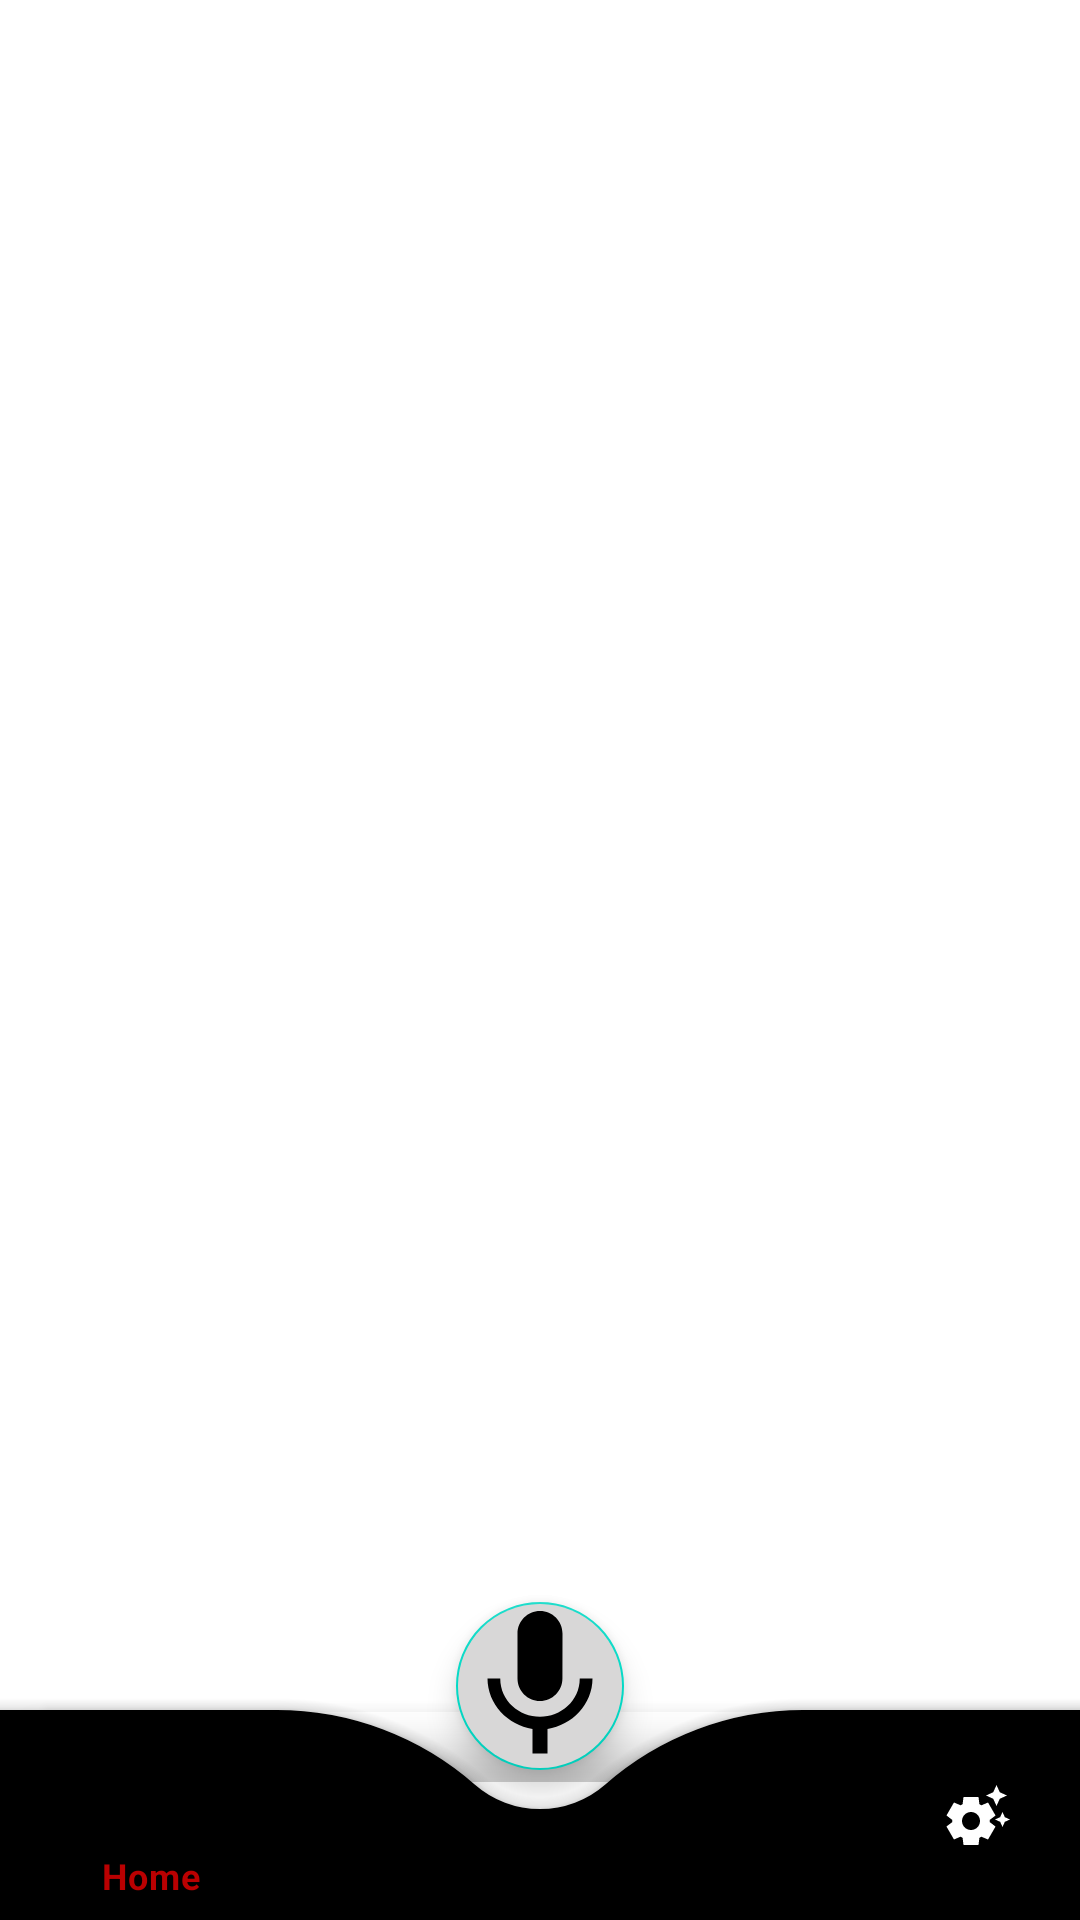

Point at icon controls on the screen. Image size 1080 × 1920, points as [x,y].
mic: [540,1686]
